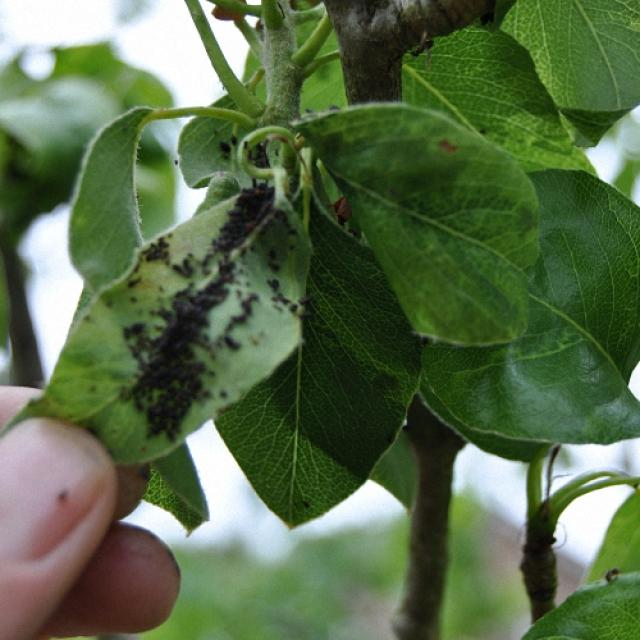Aphid-Grouped-: (108, 178, 288, 440)
